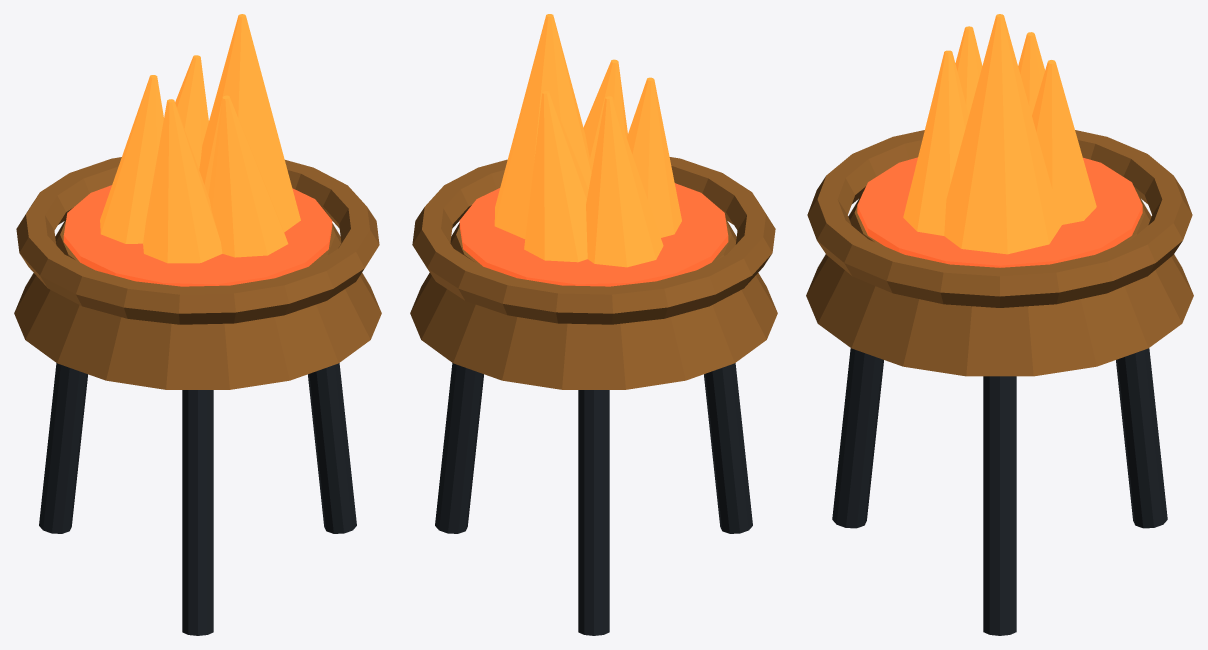
Rendered from battle_signal_brazier_LOD0.glb.
The picture shows the model from 3 angles, left to right: view 1: azimuth 30°, elevation 25°; view 2: azimuth 150°, elevation 25°; view 3: azimuth 270°, elevation 25°; orthographic projection. The views are drawn at different scales.
Parts seen in each view (by area): view 1: battle_signal_brazier_LOD0; view 2: battle_signal_brazier_LOD0; view 3: battle_signal_brazier_LOD0.
Part boxes in pixels (x1,y1,x2,y2): battle_signal_brazier_LOD0: [14, 14, 381, 635]; battle_signal_brazier_LOD0: [410, 14, 777, 635]; battle_signal_brazier_LOD0: [806, 14, 1193, 635].
Bounding box in the file's own units: 1.43 × 2.32 × 1.44.
